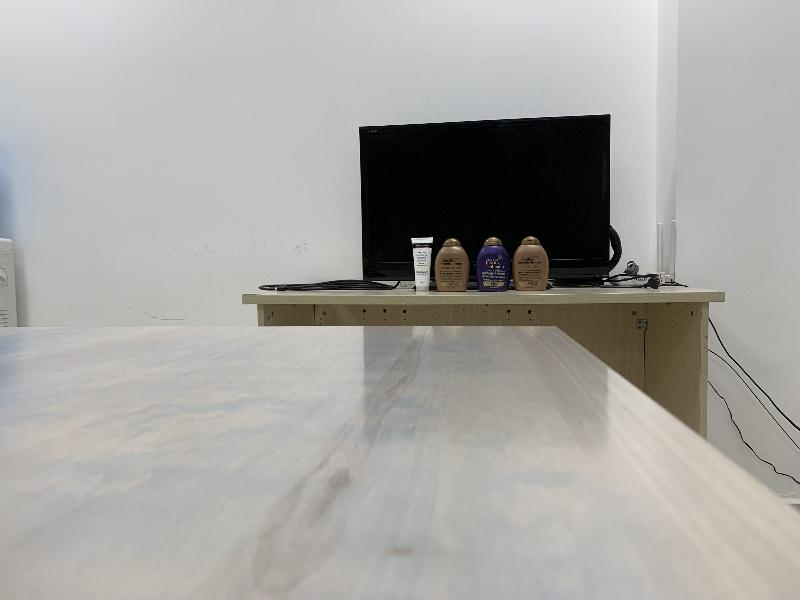BiotinCollagen_Shampoo: (476, 237, 510, 292)
BrazilianKeratinTherapy_Shampoo: (513, 236, 549, 291)
BrazilianKerationTherapy_Conditioner: (434, 238, 469, 292)
HydratingFoamingCleanser: (411, 238, 433, 292)
